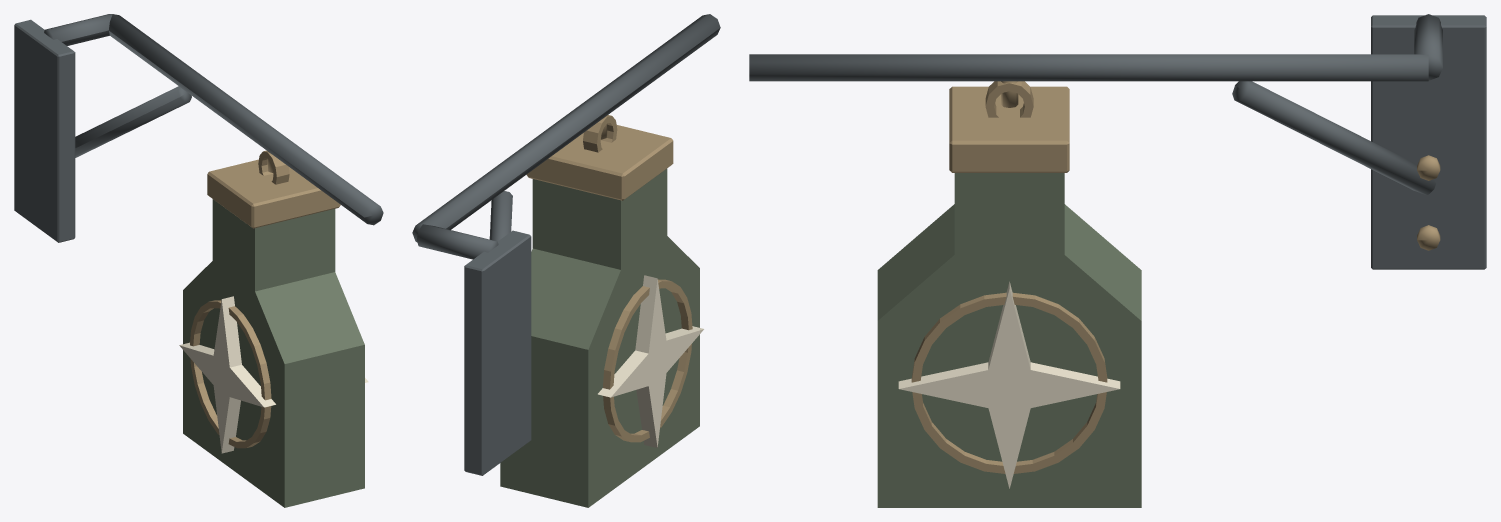
File: yokocho-star-distillery-sign.glb
3 renders of one model, left to right at view 1: azimuth 30°, elevation 25°; view 2: azimuth 150°, elevation 25°; view 3: azimuth 270°, elevation 25°, orthographic. The views are drawn at different scales.
Parts seen in each view (by area): view 1: Shops/S06/ProjectingSigns/StarDistilleryAssembly__Night_Smok, Shops/S06/ProjectingSigns/StarDistilleryAssembly__Iron, Shops/S06/ProjectingSigns/StarDistilleryAssembly__Bronze, Shops/S06/ProjectingSigns/StarDistilleryAssembly__Food_TileC; view 2: Shops/S06/ProjectingSigns/StarDistilleryAssembly__Night_Smok, Shops/S06/ProjectingSigns/StarDistilleryAssembly__Iron, Shops/S06/ProjectingSigns/StarDistilleryAssembly__Bronze, Shops/S06/ProjectingSigns/StarDistilleryAssembly__Food_TileC; view 3: Shops/S06/ProjectingSigns/StarDistilleryAssembly__Night_Smok, Shops/S06/ProjectingSigns/StarDistilleryAssembly__Iron, Shops/S06/ProjectingSigns/StarDistilleryAssembly__Bronze, Shops/S06/ProjectingSigns/StarDistilleryAssembly__Food_TileC.
Boxes of the visible parts, x1,y1,x2,y2 form: Shops/S06/ProjectingSigns/StarDistilleryAssembly__Night_Smok: [183, 199, 364, 507]; Shops/S06/ProjectingSigns/StarDistilleryAssembly__Iron: [14, 14, 383, 242]; Shops/S06/ProjectingSigns/StarDistilleryAssembly__Bronze: [190, 150, 340, 448]; Shops/S06/ProjectingSigns/StarDistilleryAssembly__Food_TileC: [179, 296, 368, 453]; Shops/S06/ProjectingSigns/StarDistilleryAssembly__Night_Smok: [500, 168, 699, 507]; Shops/S06/ProjectingSigns/StarDistilleryAssembly__Iron: [412, 14, 720, 475]; Shops/S06/ProjectingSigns/StarDistilleryAssembly__Bronze: [526, 115, 692, 442]; Shops/S06/ProjectingSigns/StarDistilleryAssembly__Food_TileC: [598, 275, 703, 447]; Shops/S06/ProjectingSigns/StarDistilleryAssembly__Night_Smok: [877, 173, 1141, 507]; Shops/S06/ProjectingSigns/StarDistilleryAssembly__Iron: [749, 14, 1486, 269]; Shops/S06/ProjectingSigns/StarDistilleryAssembly__Bronze: [911, 81, 1440, 473]; Shops/S06/ProjectingSigns/StarDistilleryAssembly__Food_TileC: [898, 281, 1120, 488].
Bounding box in the file's own units: 0.2015 × 0.49 × 0.765.
